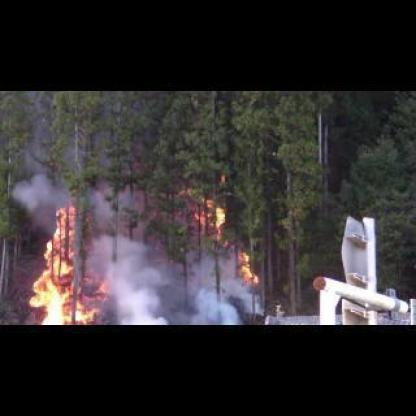fire: (24, 202, 106, 324), (192, 200, 221, 241), (236, 251, 258, 283)
